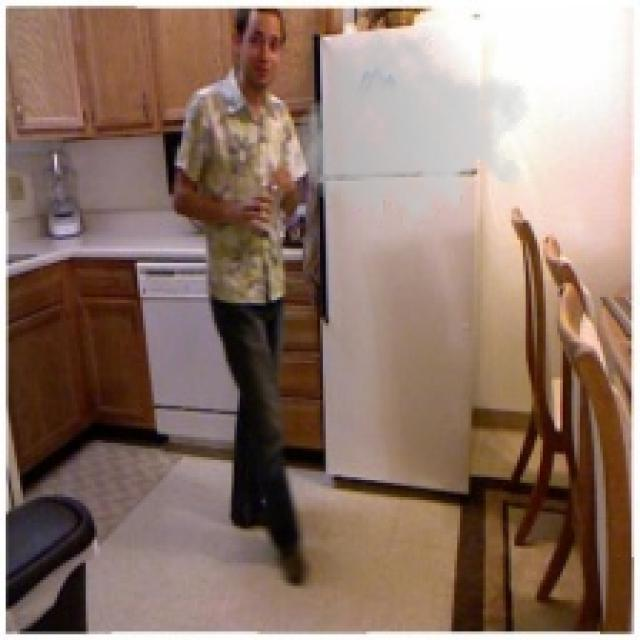Smoke: (294, 20, 532, 246)
